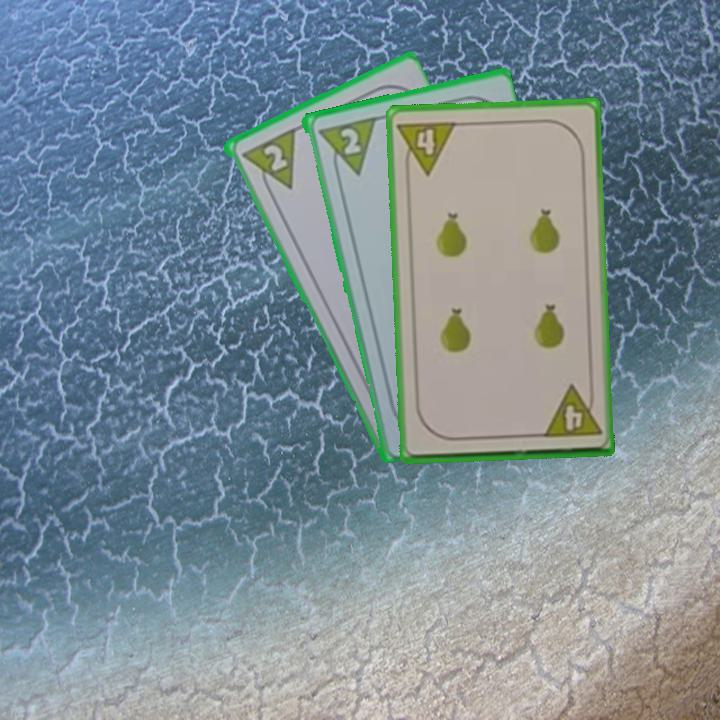2p: (259, 140, 290, 174), (336, 124, 363, 157)
4p: (394, 117, 459, 178), (539, 382, 604, 441)
